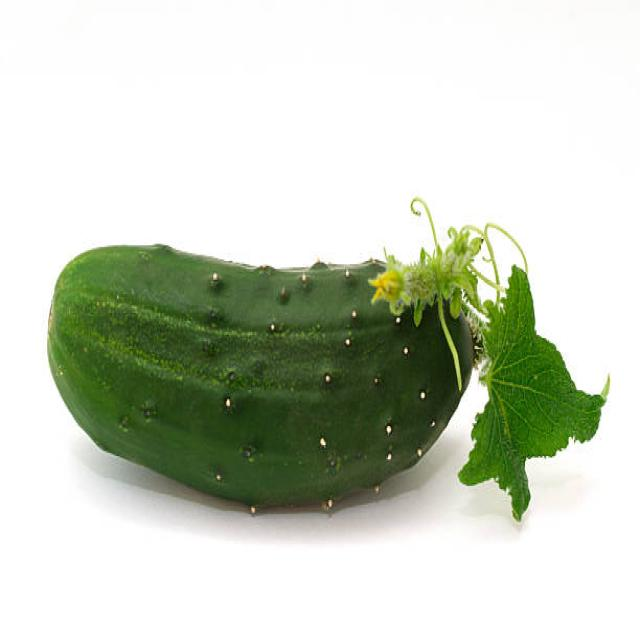cucumber: (47, 240, 474, 507)
